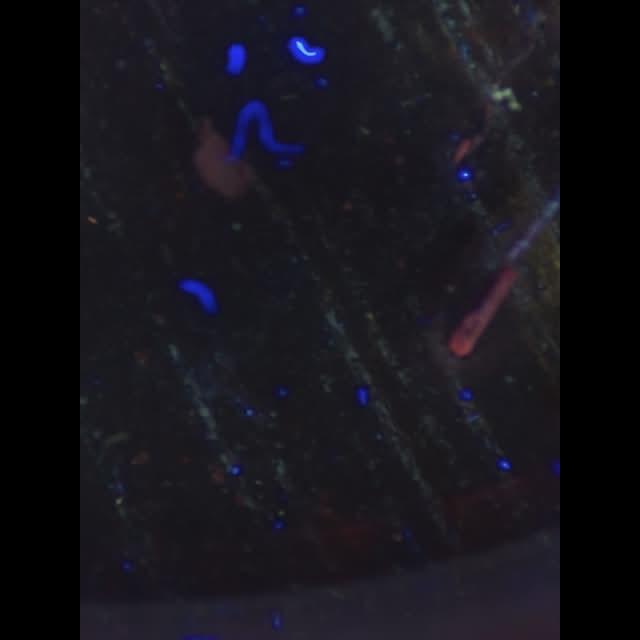Fibre: (491, 78, 521, 112)
